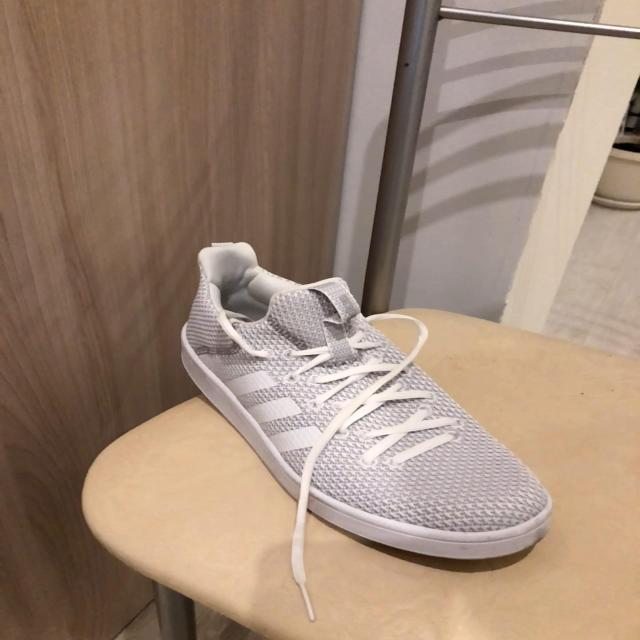shoe: (180, 242, 554, 587)
